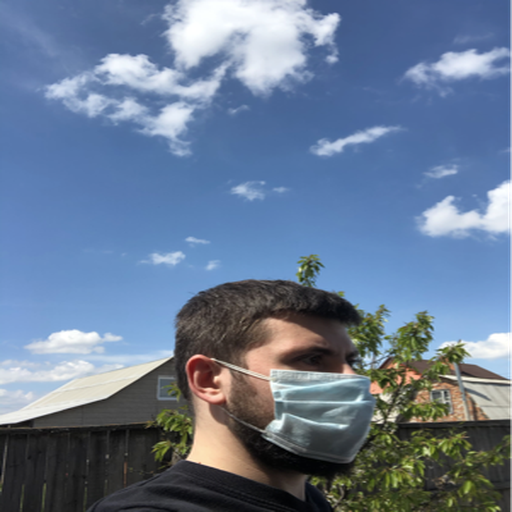mask: (272, 377, 372, 463)
